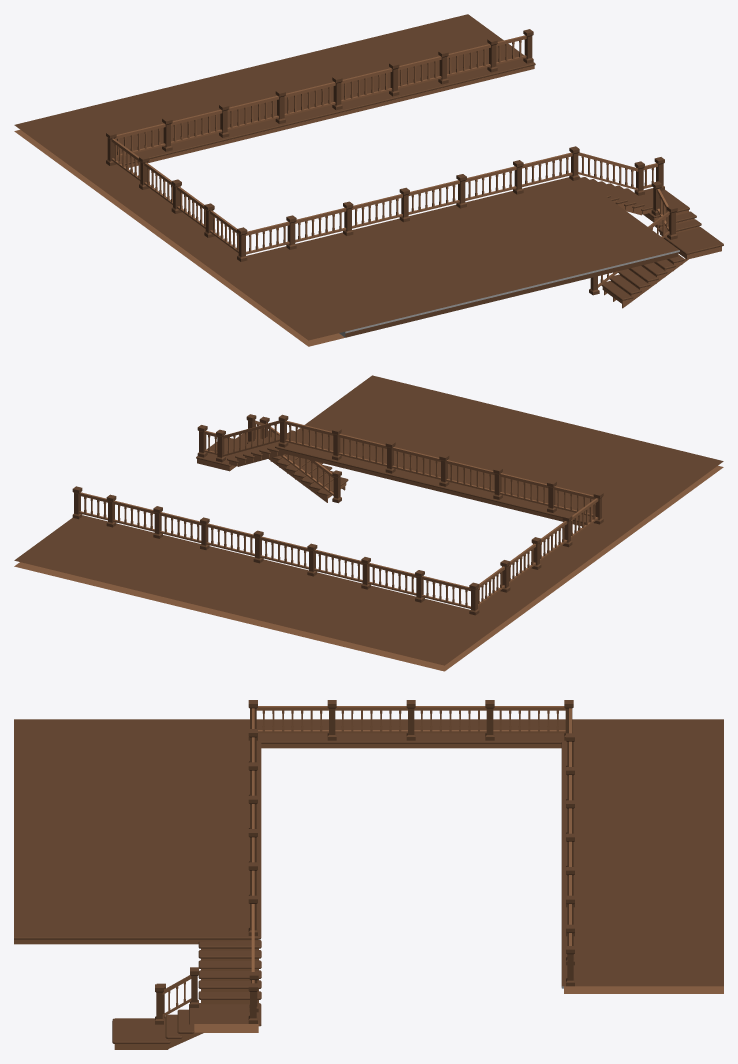
Rendered from stairs_n_all.fbx.
3 views of the same model, one above another, from view 1: azimuth 30°, elevation 25°; view 2: azimuth 150°, elevation 25°; view 3: azimuth 270°, elevation 25° (orthographic). The views are drawn at different scales.
Visible parts, largest first — view 1: pCube26, pCube28, pCube27, pCube30, pCube29, pCube86, polySurface40, polySurface55, pCube48, group25, group14, pCube88 (+16 smaller); view 2: pCube26, pCube28, pCube27, pCube30, pCube29, pCube86, polySurface40, pCube88, group29, group17, group16, group26 (+15 smaller); view 3: pCube26, pCube28, pCube27, pCube30, pCube86, pCube29, pCube88, polySurface55, pCube48, group21, group23, group22 (+1 smaller).
Boxes of the visible parts, box(x1,y1,x2,y2) form: pCube26: box(246, 177, 679, 337); pCube28: box(51, 14, 535, 167); pCube27: box(80, 164, 238, 272); pCube30: box(207, 259, 344, 346); pCube29: box(14, 116, 111, 179); pCube86: box(578, 152, 653, 215); polySurface40: box(601, 254, 688, 308); polySurface55: box(651, 181, 701, 239); pCube48: box(664, 227, 723, 259); group25: box(286, 208, 346, 249); group14: box(284, 75, 342, 116); pCube88: box(639, 157, 689, 221); pCube26: box(275, 375, 688, 526); pCube28: box(14, 515, 469, 662); pCube27: box(478, 523, 627, 625); pCube30: box(593, 452, 723, 537); pCube29: box(410, 613, 507, 671); pCube86: box(216, 420, 295, 466); polySurface40: box(268, 454, 348, 502); pCube88: box(196, 425, 245, 471); group29: box(285, 420, 341, 460); group17: box(415, 570, 470, 608); group16: box(361, 557, 416, 595); group26: box(446, 460, 502, 499); pCube26: box(14, 741, 261, 944); pCube28: box(561, 741, 723, 993); pCube27: box(258, 719, 563, 748); pCube30: box(14, 719, 258, 740); pCube86: box(198, 904, 261, 1012); pCube29: box(564, 719, 723, 740); pCube88: box(189, 980, 261, 1032); polySurface55: box(155, 967, 204, 1048); pCube48: box(112, 1019, 170, 1049); group21: box(414, 700, 494, 740); group23: box(256, 700, 336, 740); group22: box(335, 700, 415, 740).
Bounding box in the file's own units: 2012 × 491 × 2247.
